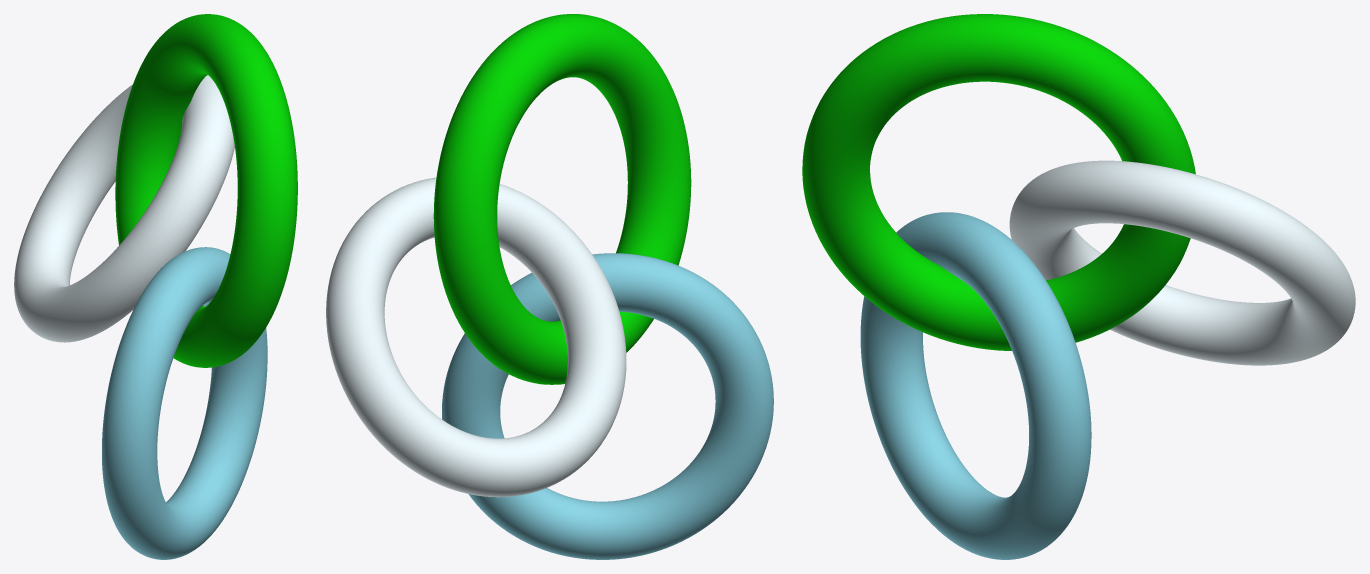
File: pokal.glb
3 views of the same model, side by side, from view 1: azimuth 30°, elevation 25°; view 2: azimuth 150°, elevation 25°; view 3: azimuth 270°, elevation 25° (orthographic). The views are drawn at different scales.
Bounding box in the file's own units: 0.1686 × 0.3178 × 0.2843.
